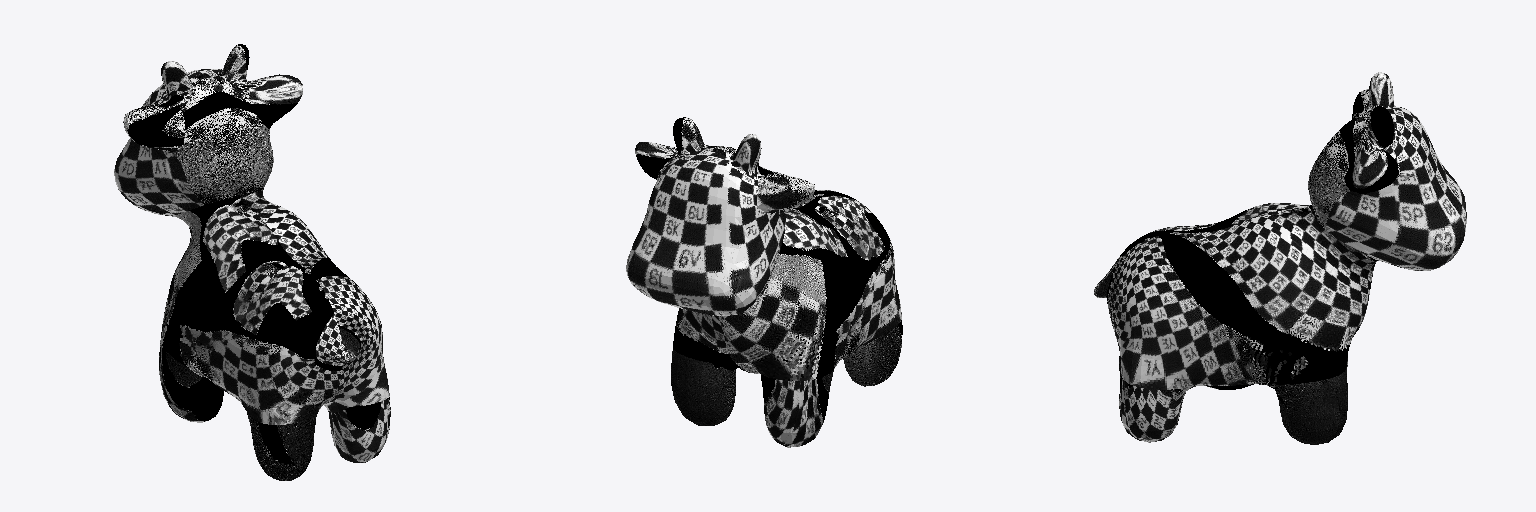
3 renders of one model, left to right at view 1: azimuth 30°, elevation 25°; view 2: azimuth 150°, elevation 25°; view 3: azimuth 270°, elevation 25°, orthographic.
Size of the model in its own units: 0.9431 by 1.69 by 1.72.
Materials: 1 (1 with a texture image).